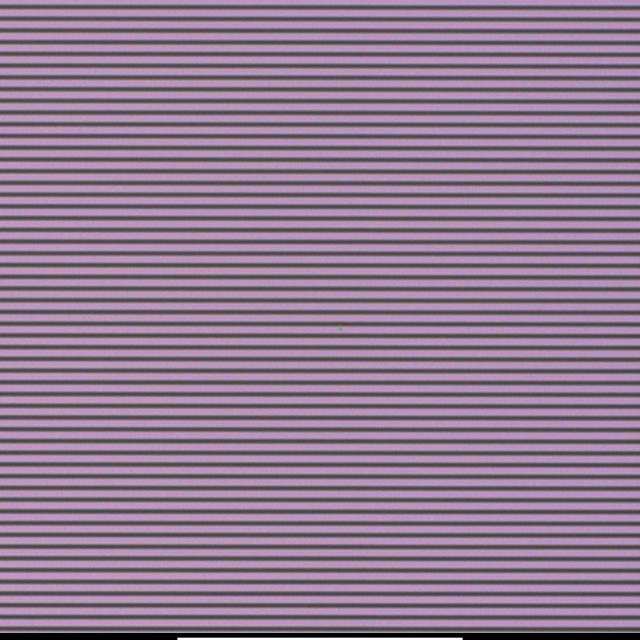03_intrusion: (334, 321, 351, 342)
